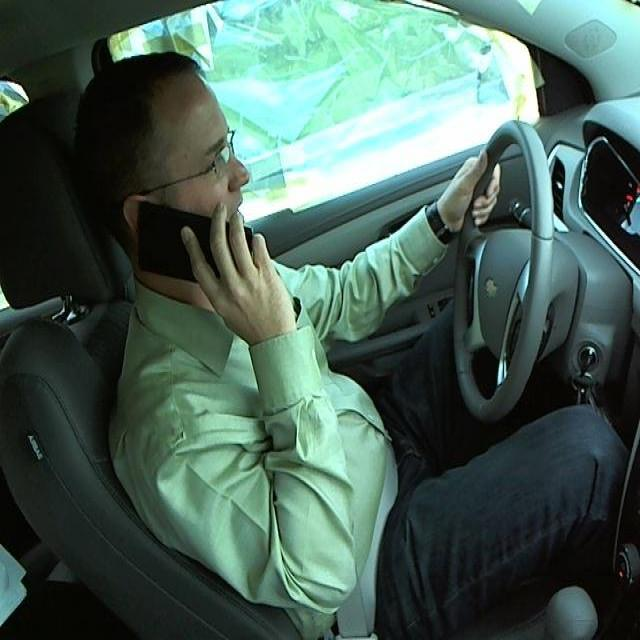using_phone: (59, 24, 310, 310)
